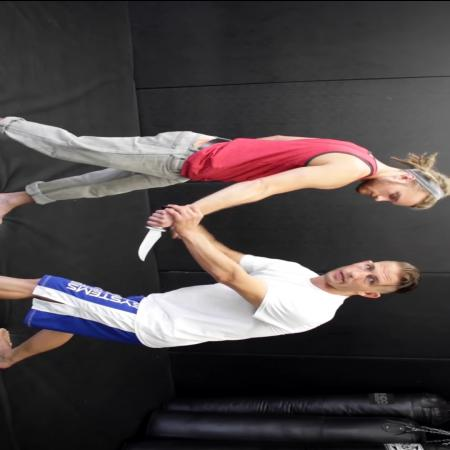long weapon: (132, 204, 170, 262)
